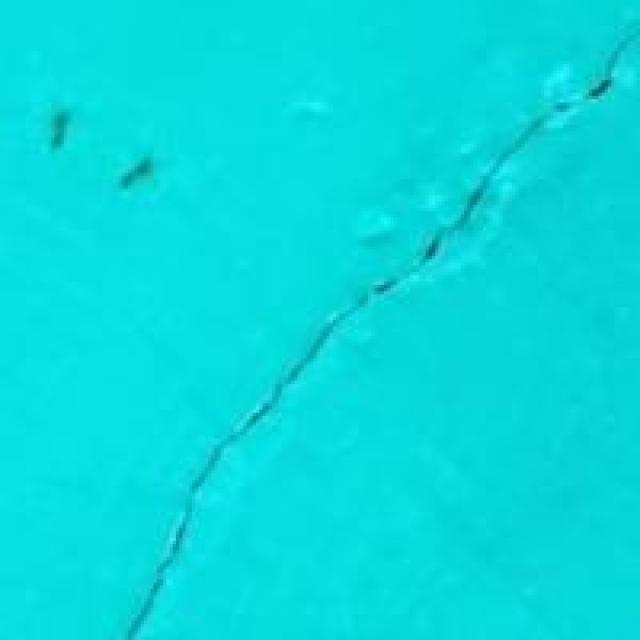crack: (112, 32, 637, 637)
